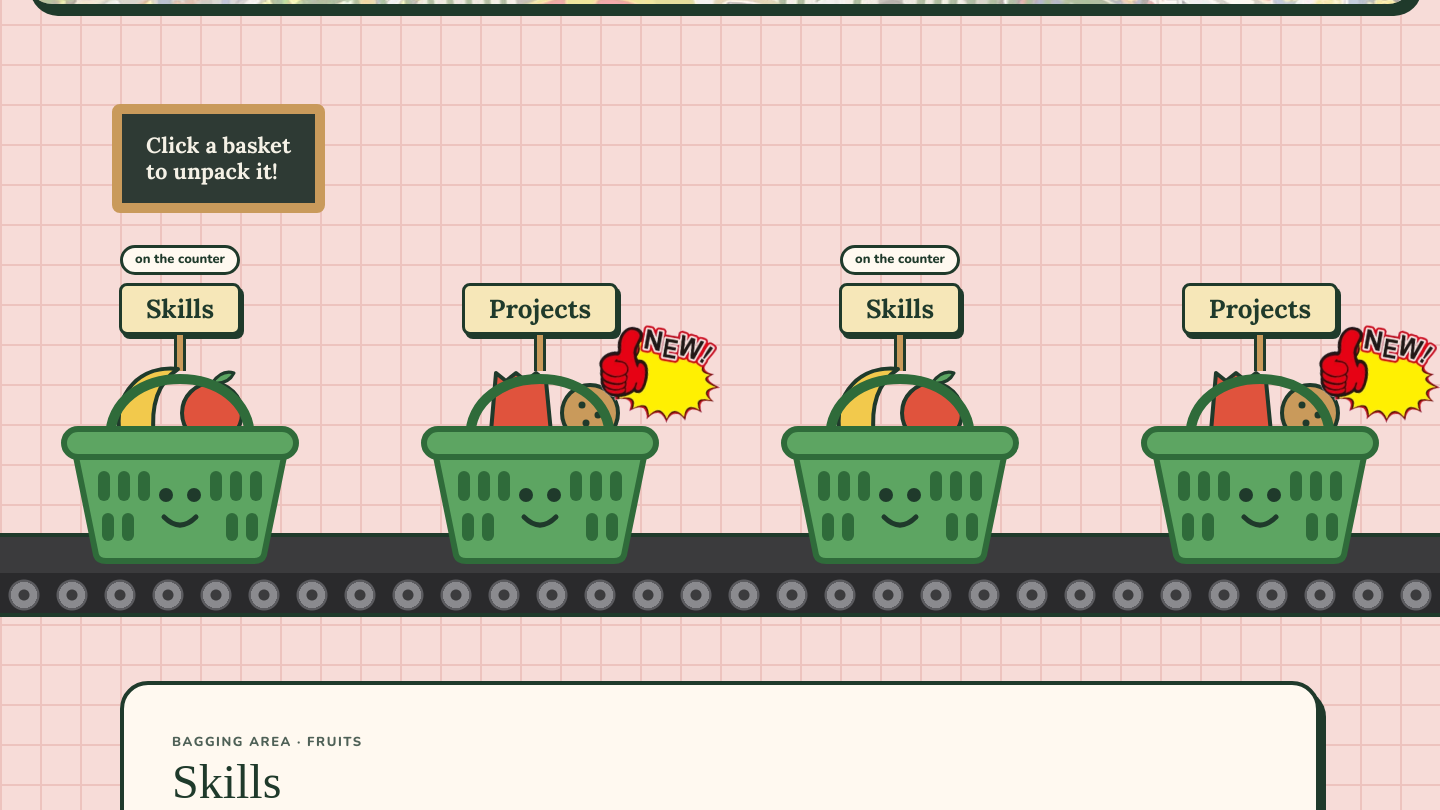
it: the second copy of the belt is clickable but hidden from keyboard and screen readers
The image size is (1440, 810).
(page scrolled)
Click the 2nd button "Projects": (1260, 406) [1130, 245, 1390, 567]
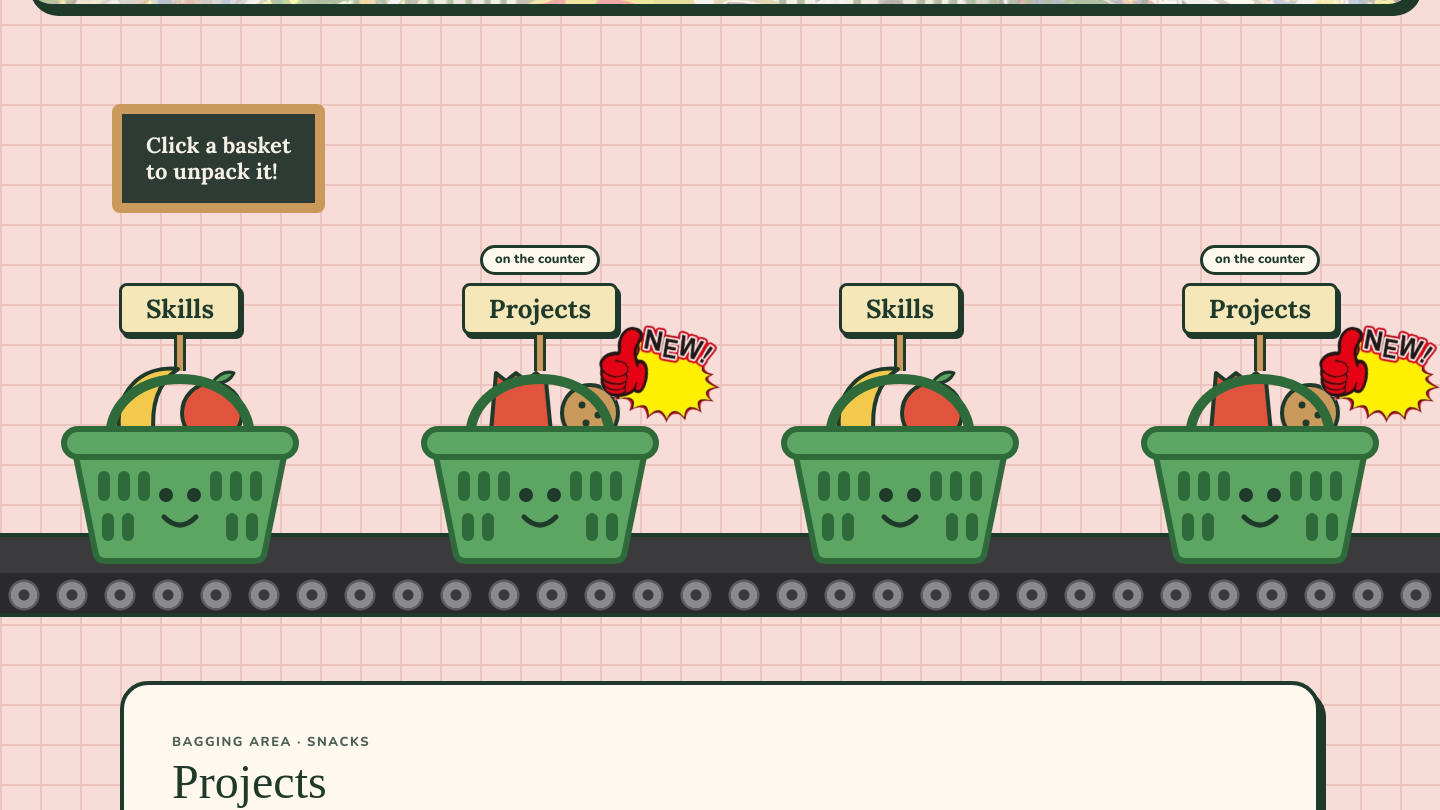
Result: the heading "Projects" is shown at [172, 755, 327, 808]
